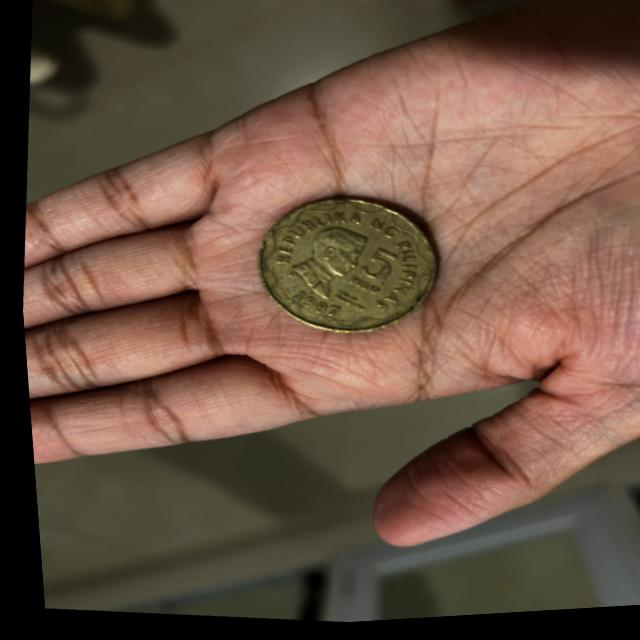5_Old_Front: (340, 244, 400, 305)
